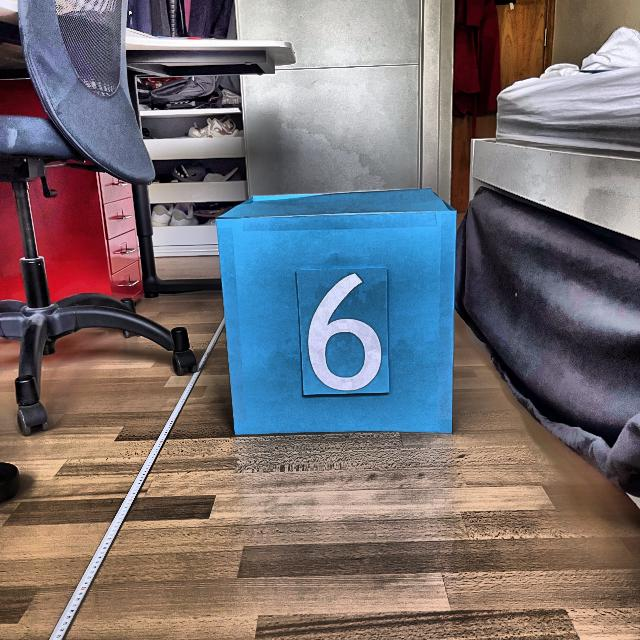blue box: (210, 184, 459, 437)
six: (306, 269, 383, 395)
